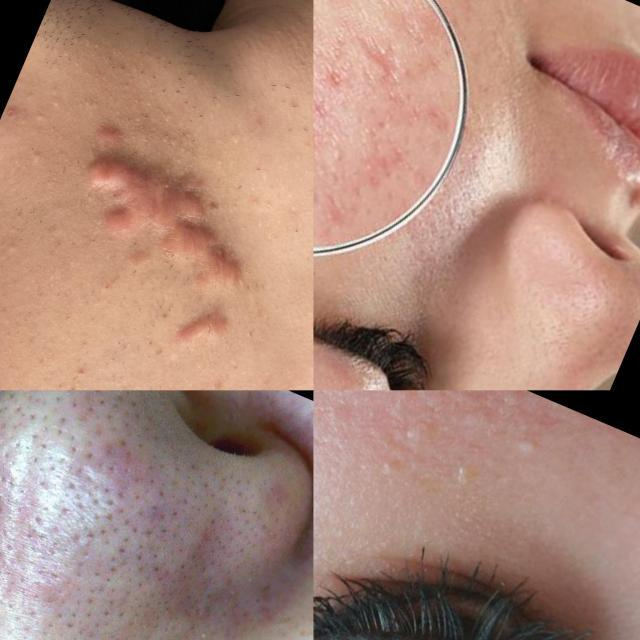Pimples: (48, 115, 284, 304), (72, 434, 163, 516), (0, 472, 80, 549), (196, 486, 275, 562), (36, 550, 108, 632), (15, 413, 90, 489), (52, 390, 150, 446), (99, 525, 172, 597), (88, 588, 179, 640), (169, 296, 239, 362), (0, 527, 55, 609), (159, 550, 224, 616), (64, 494, 128, 561), (348, 14, 414, 78), (142, 474, 206, 538), (0, 392, 40, 454), (221, 560, 261, 610), (0, 602, 46, 640), (506, 428, 550, 467), (0, 441, 18, 518), (314, 96, 334, 154), (180, 617, 225, 640)
